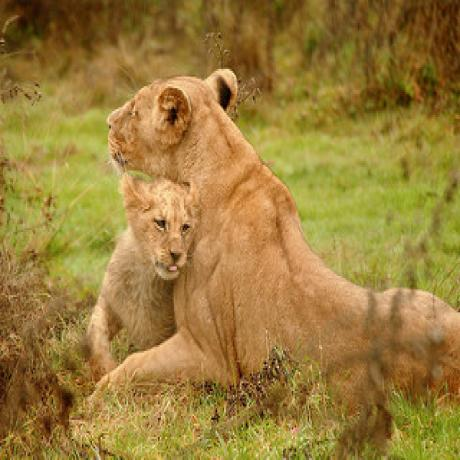Lion: (108, 65, 460, 408), (90, 179, 198, 367)
